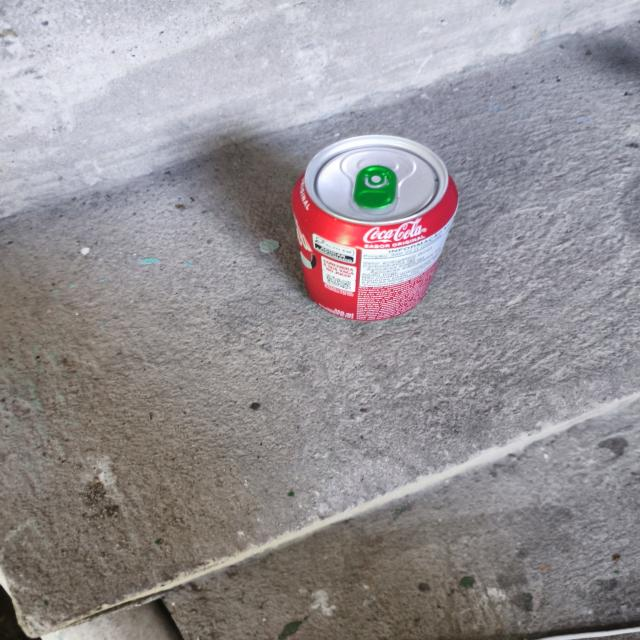Coca Cola: (291, 132, 460, 319)
